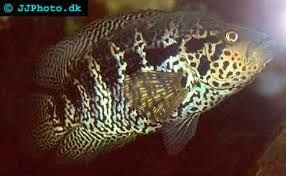Jaguar Gapote: (23, 10, 277, 160)
